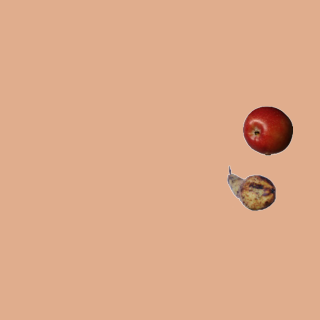Apple Braeburn: (242, 105, 292, 155)
Pear Abate: (226, 163, 276, 213)
